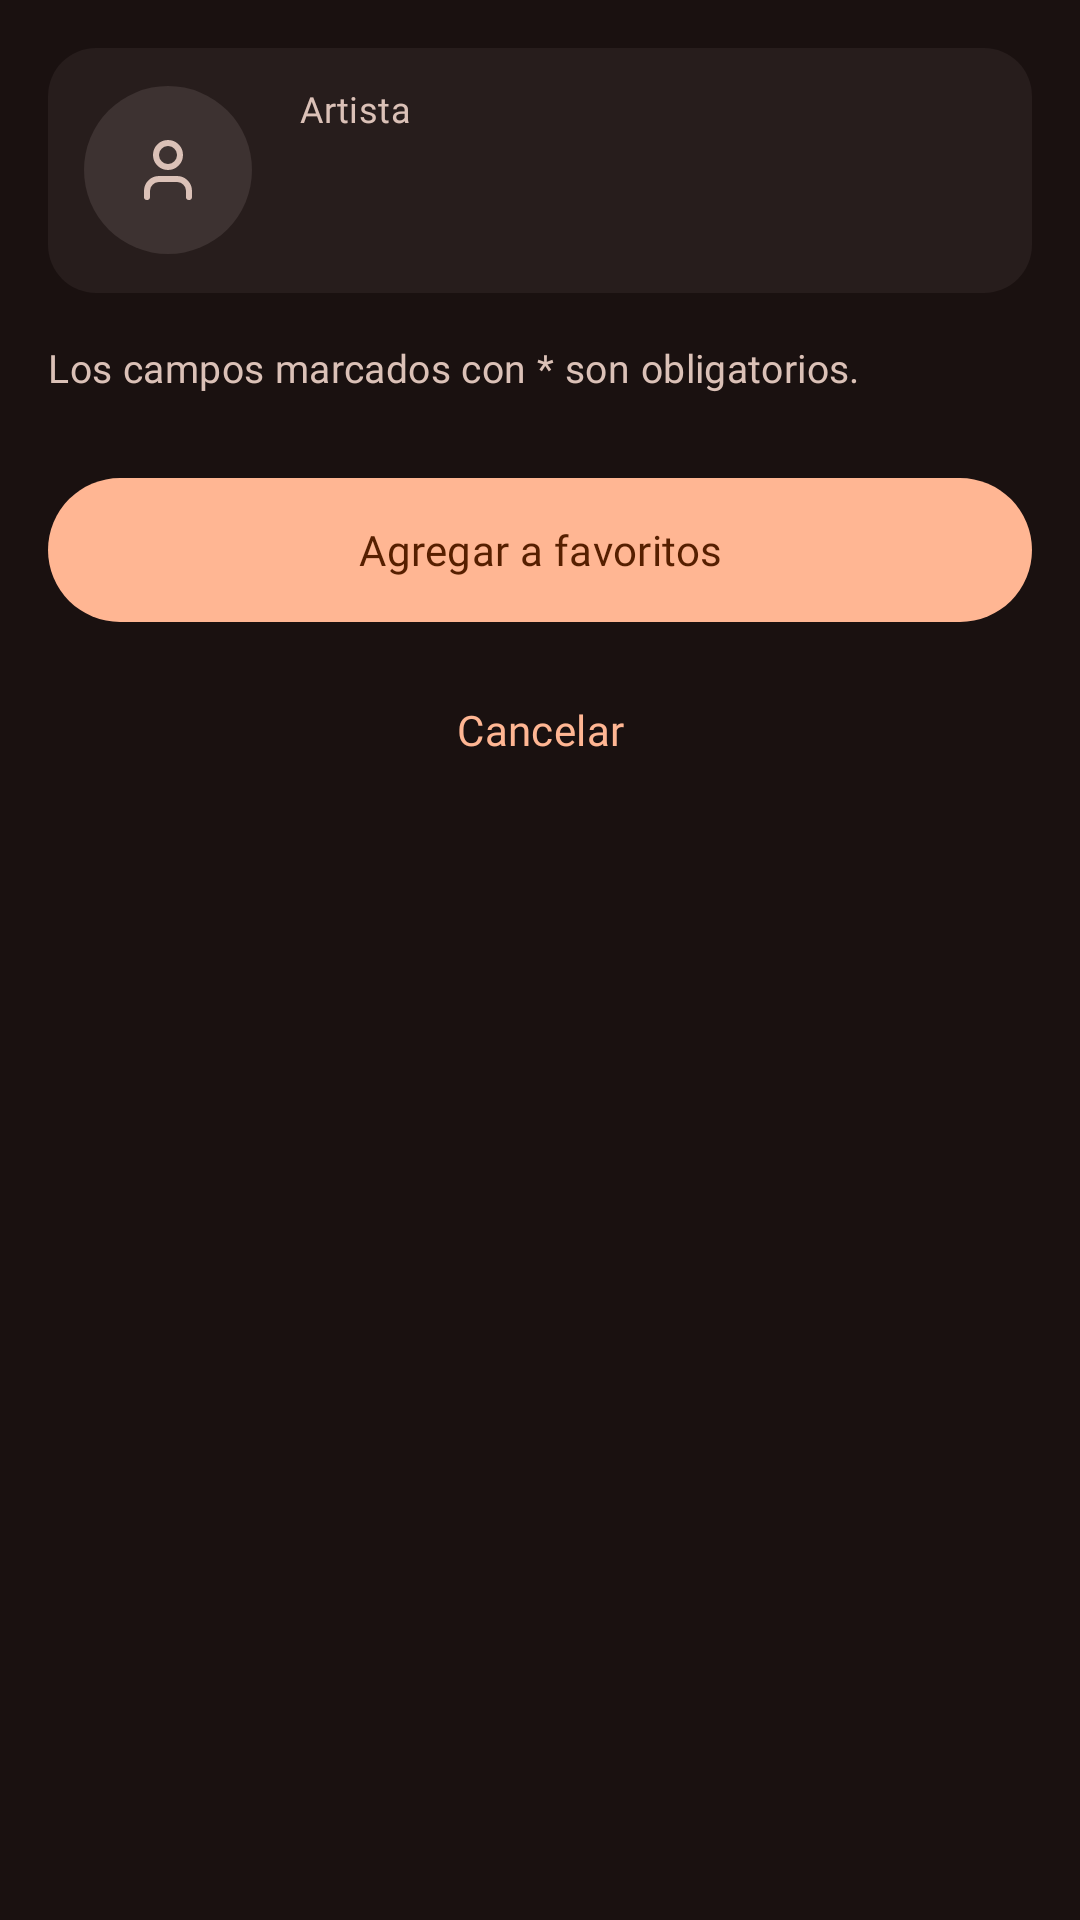

Named icons in this screenshot (1080x1920) and their bounding boxes, (x1, y1, x2, y2):
visitor: (84, 86, 252, 254)
